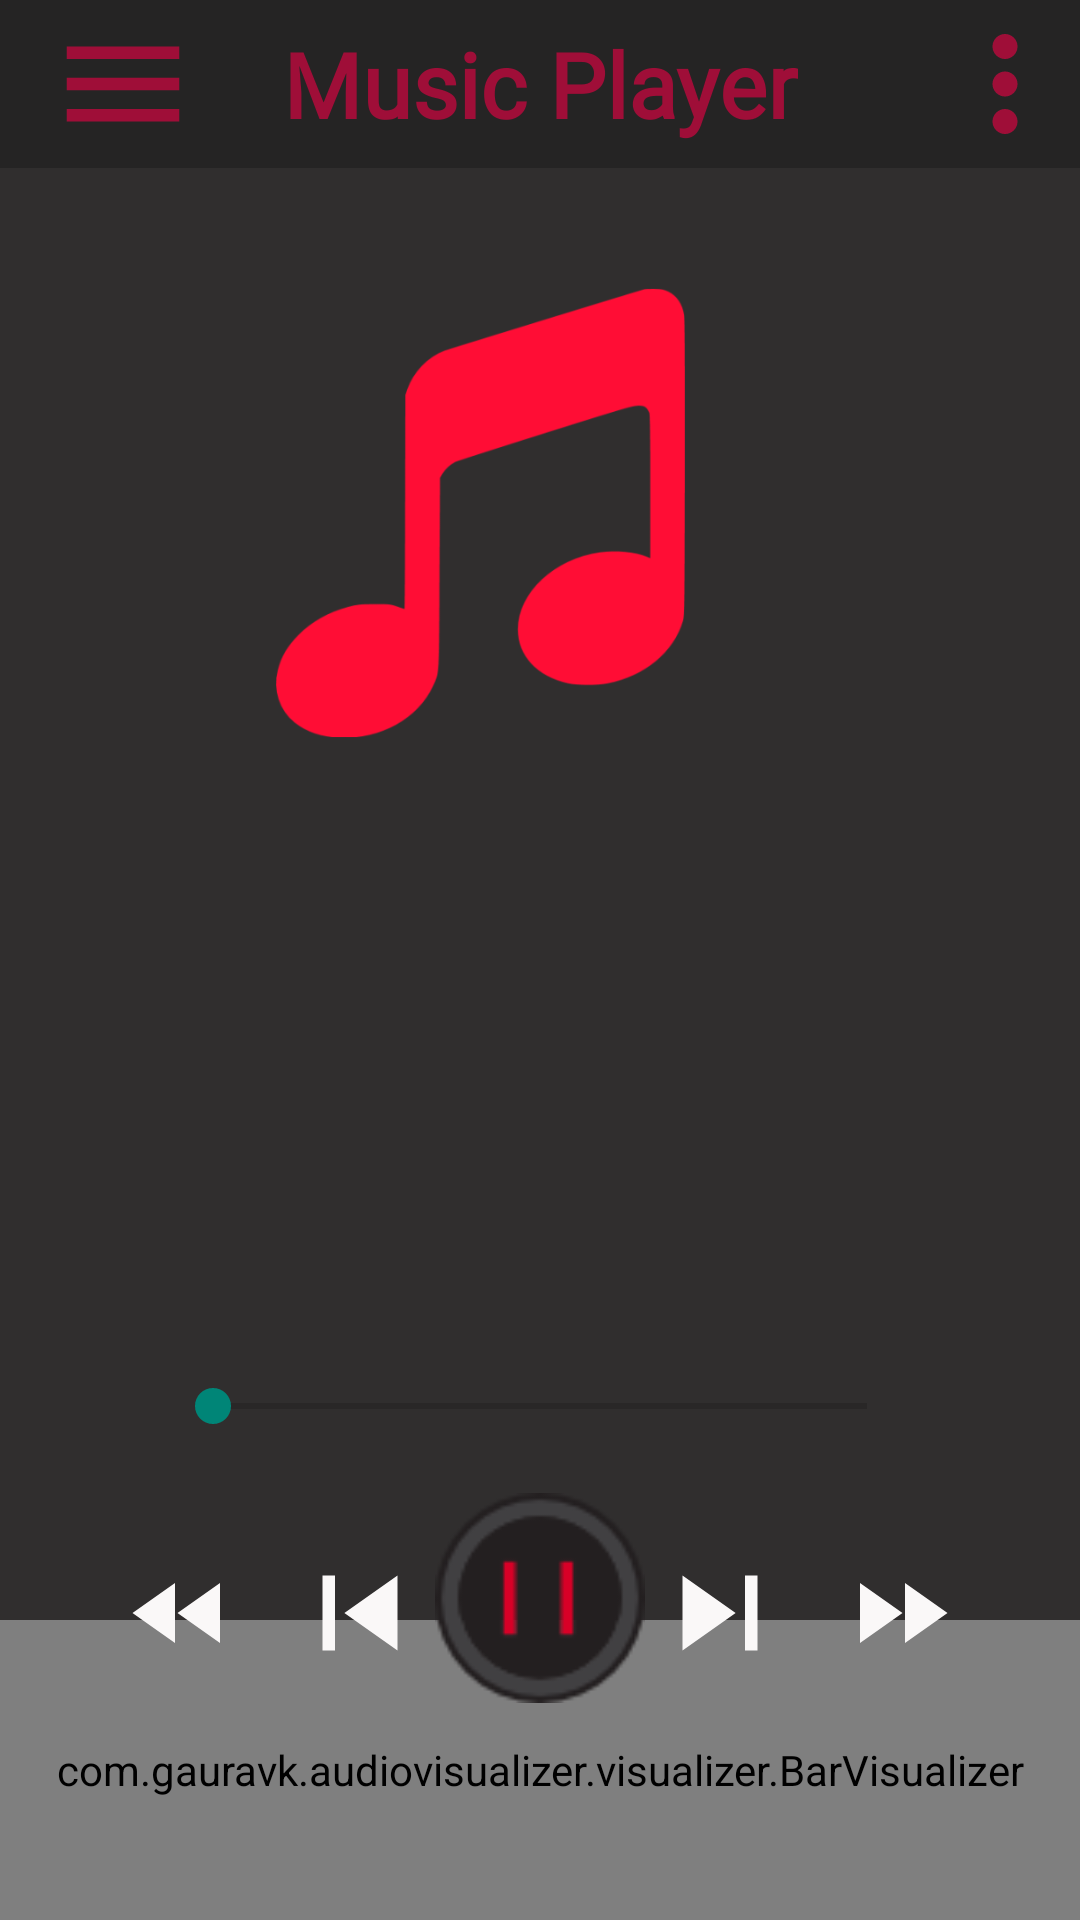

Point at icon controls on the screen. Image size 1080 x 1920, points as (x,y).
fast rewind: (180,1613)
fastfarword: (900,1613)
menu: (123,84)
pausenext: (540,1598)
vert: (1005,84)
